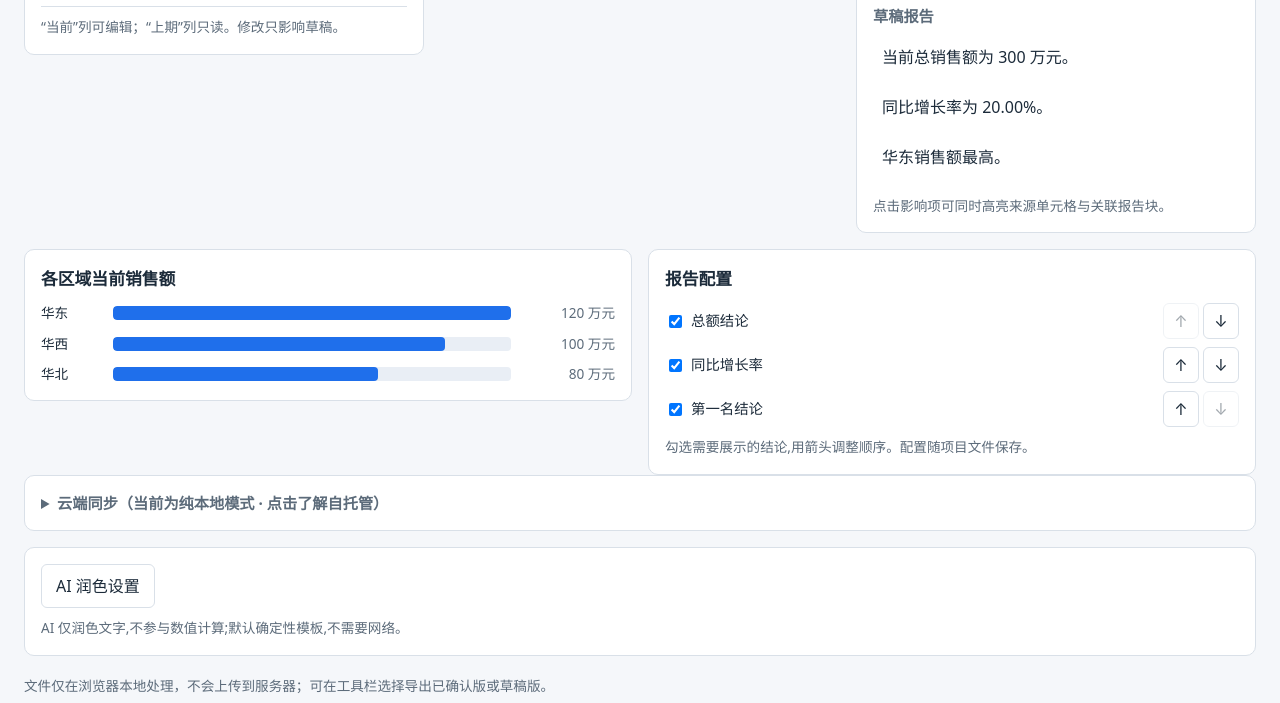
Test: report configuration UI › restores the default config when the local project is cleared
The width and height of the screenshot is (1280, 703).
(page scrolled)
Click the checkbox named "显示同比增长率". click: [676, 365]
box: [669, 359, 682, 372]
(page scrolled)
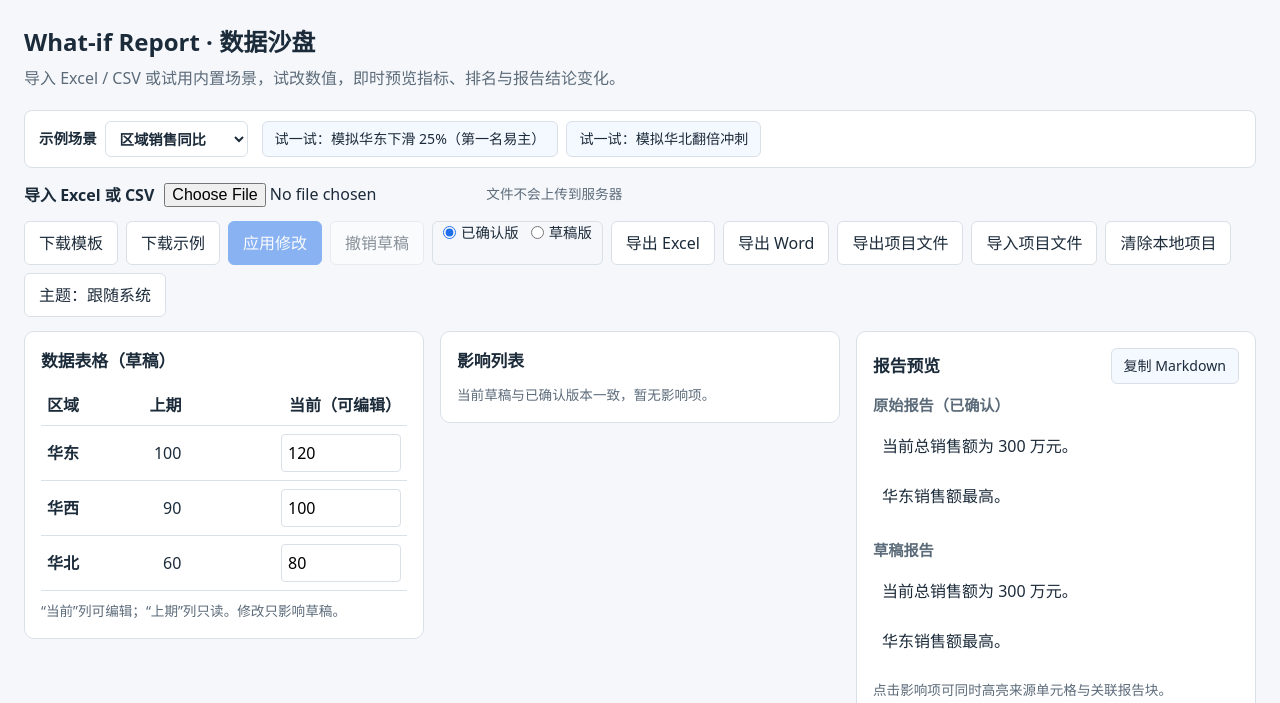
Expected: the text "草稿报告" no longer shows "同比增长率为"
Click the button "清除本地项目". click: [1168, 243]
box: [1105, 221, 1231, 265]
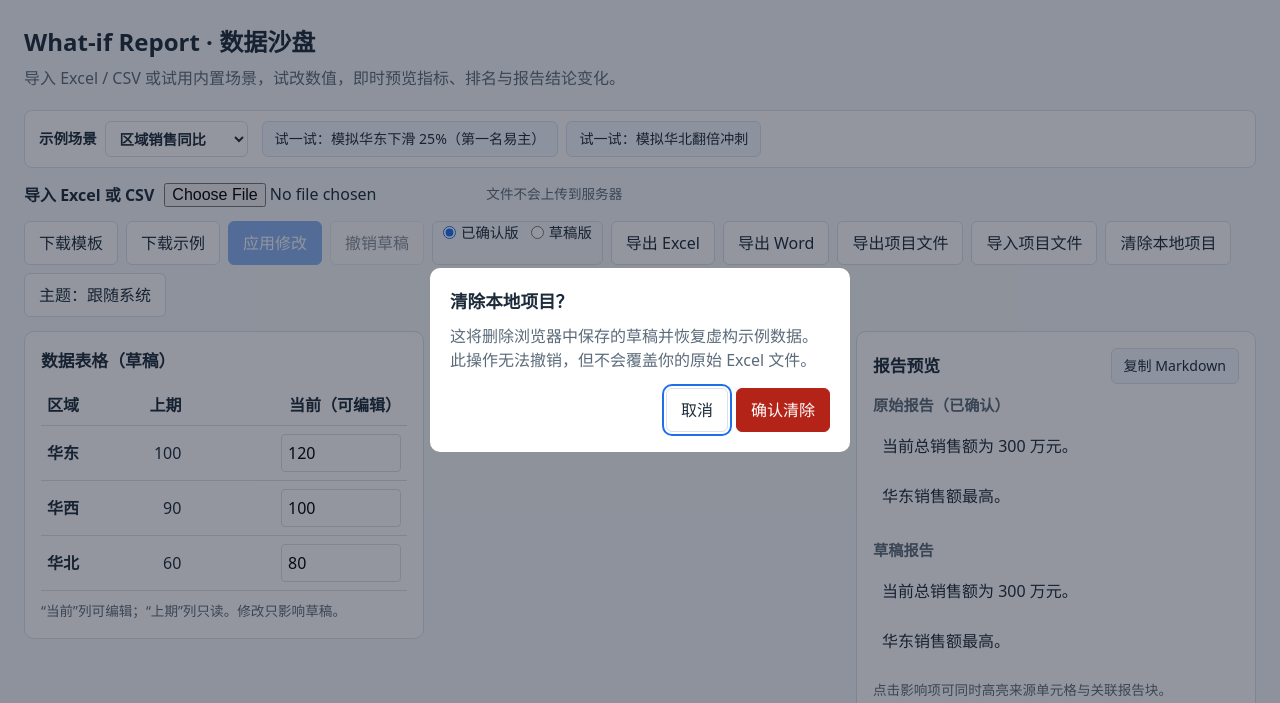
Click the button "确认清除". click: [783, 410]
box: [736, 388, 830, 432]
(page scrolled)
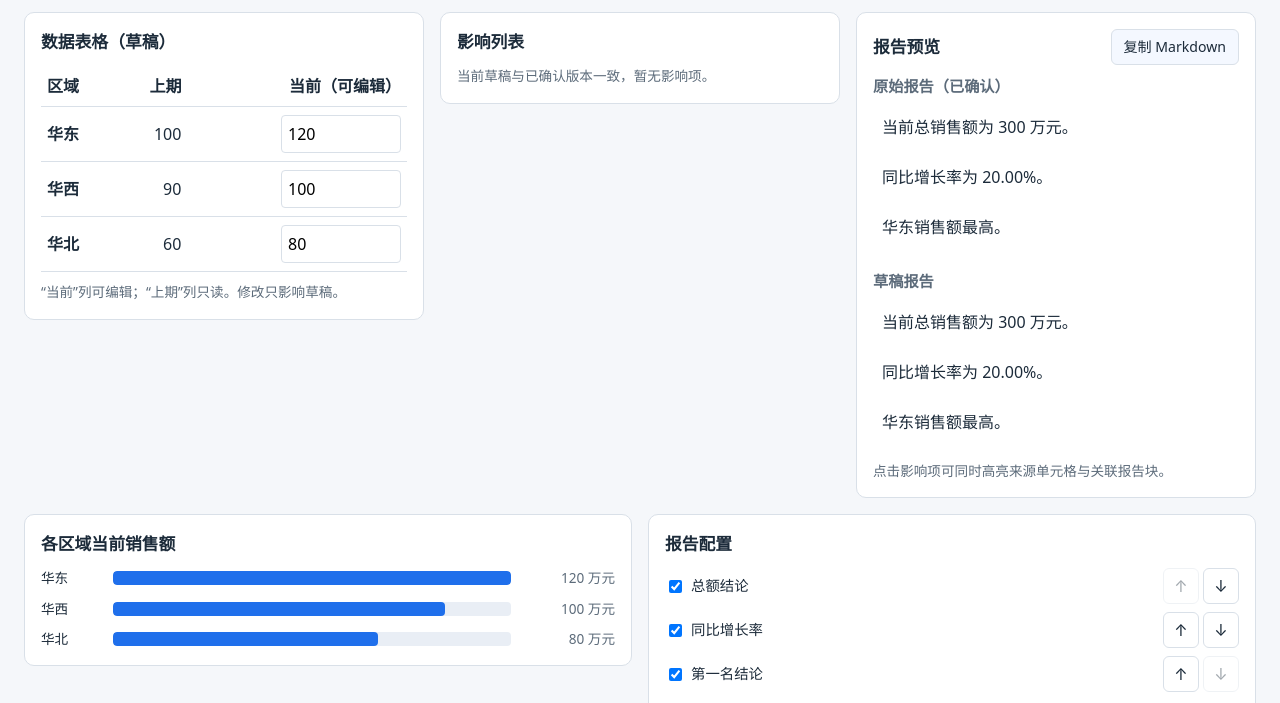
Expected: the element "草稿报告" shows "同比增长率为", [882, 361, 1052, 383]
